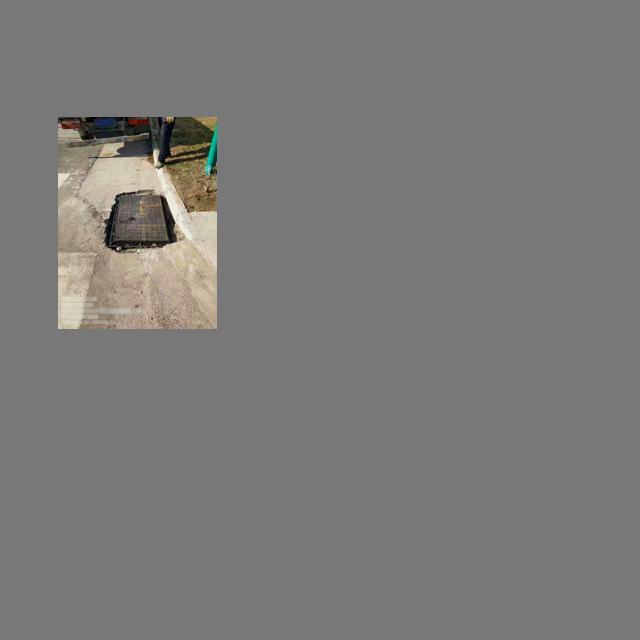circle: (104, 192, 178, 251)
